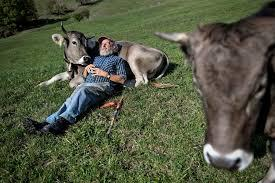cow: (174, 18, 275, 175), (32, 31, 171, 90)
